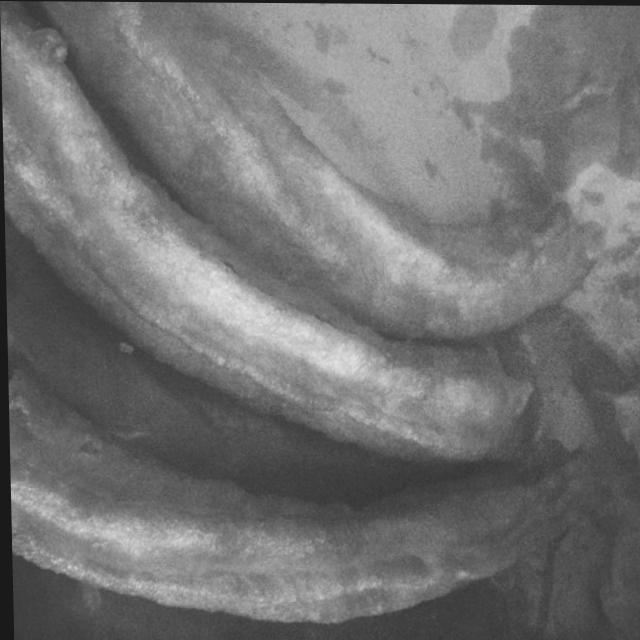炸货点心: (0, 0, 607, 629)
